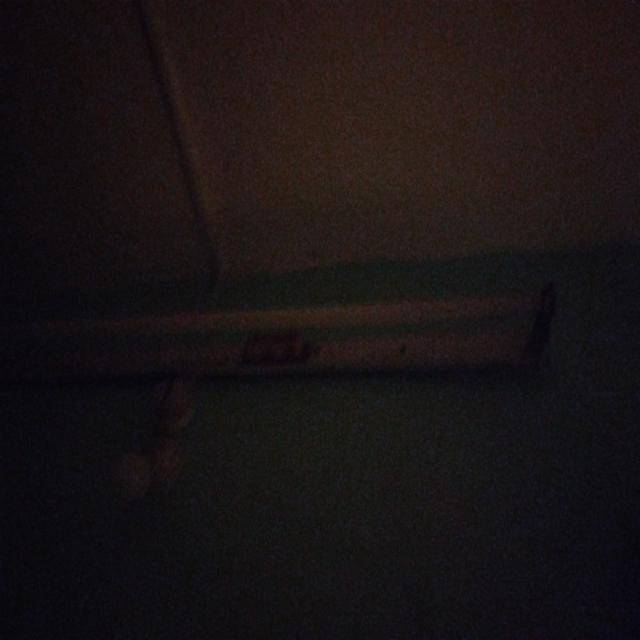tubelight_off: (0, 284, 559, 383)
